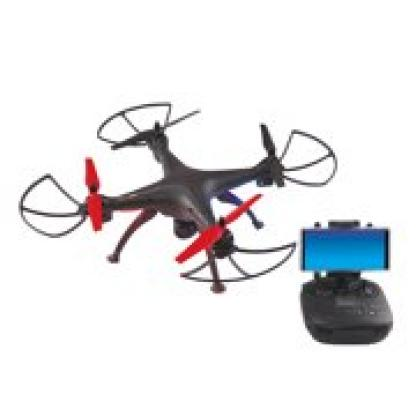drone: (21, 106, 349, 289)
